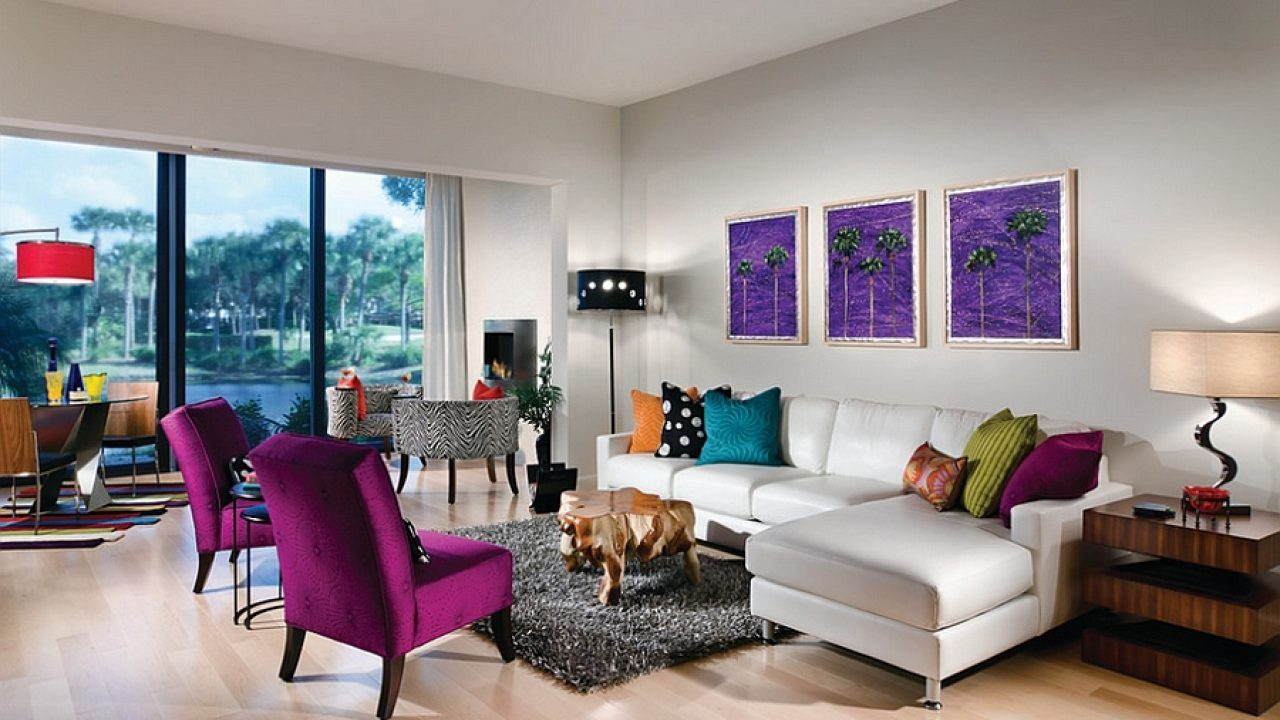biru: (704, 396, 784, 460)
coklat: (1084, 499, 1280, 716), (560, 488, 698, 607), (1, 396, 33, 475)
hitam: (575, 269, 646, 311)
merah: (17, 242, 96, 283)
putih: (754, 490, 1045, 645), (787, 396, 896, 488), (1147, 327, 1280, 401)
ungu: (251, 436, 517, 635), (164, 397, 235, 553), (1006, 433, 1100, 517)
